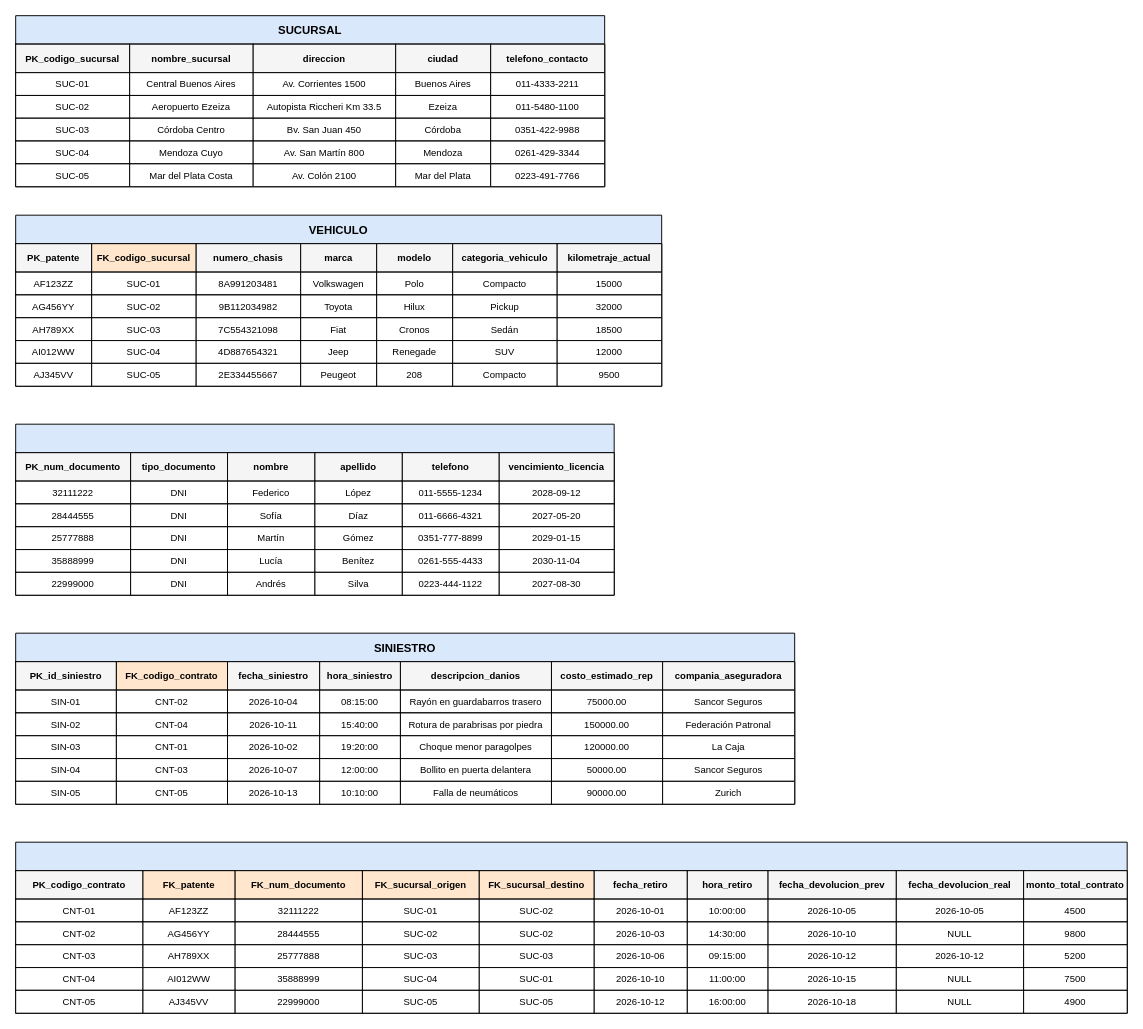
The diagram is 1143 pixels wide and 1029 high, and some of its shapes have lost their labels. The shapes that lost their labels are listed below. From the top down, each one's box as (x1, y1, x2, y2) in pixels, then its label:
(15, 423, 614, 595): CLIENTE
(15, 841, 1127, 1013): CONTRATO_ALQUILER
